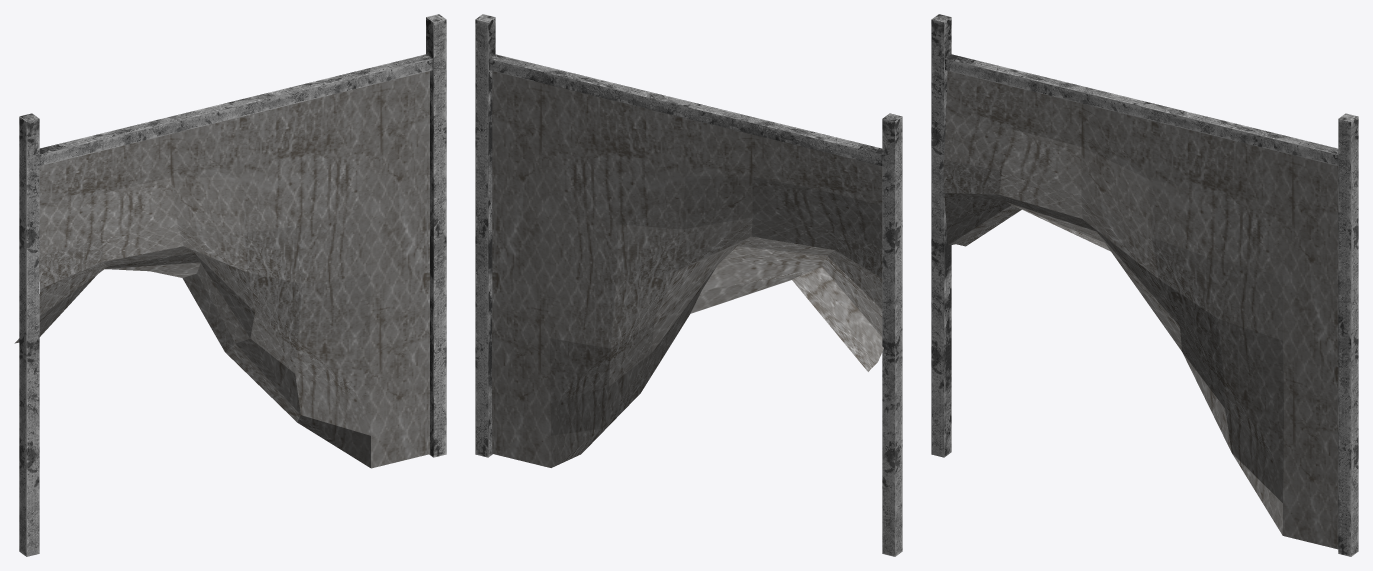
Rendered from Fence_Metal_Broken.fbx.
The picture shows the model from 3 angles, left to right: view 1: azimuth 30°, elevation 25°; view 2: azimuth 150°, elevation 25°; view 3: azimuth 330°, elevation 25°; orthographic projection.
Parts seen in each view (by area): view 1: Cerca/A; view 2: Cerca/A; view 3: Cerca/A.
Part boxes in pixels (left/top/right/bottom): Cerca/A: left=14, top=14, right=446, bottom=556; Cerca/A: left=475, top=14, right=902, bottom=556; Cerca/A: left=931, top=14, right=1358, bottom=556.
Size of the model in its own units: 261 by 259 by 38.89.
